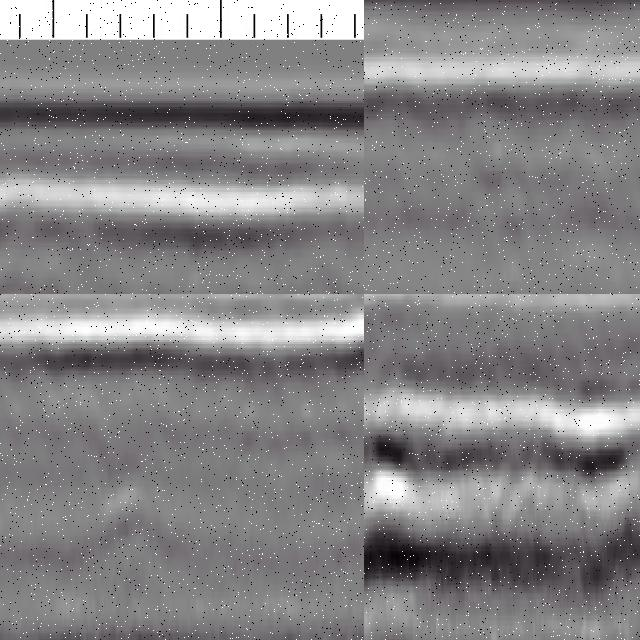loose: (365, 333, 511, 634)
